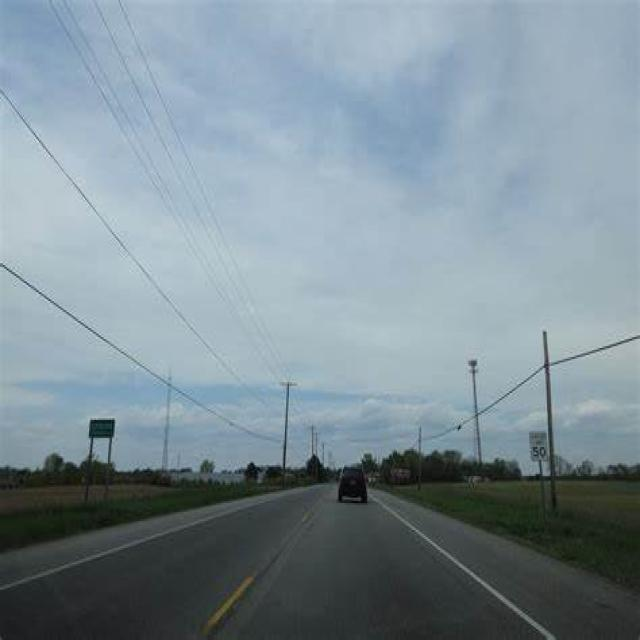speedLimit50: (528, 425, 554, 464)
